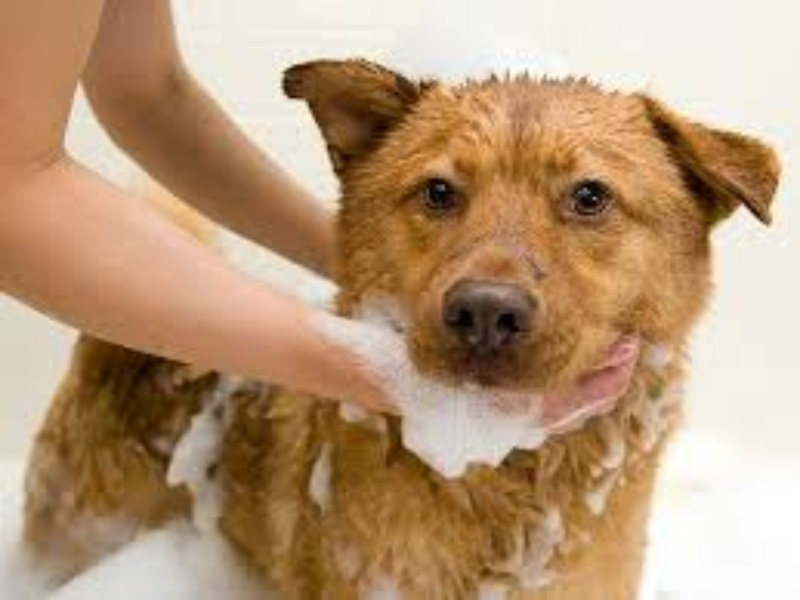dog: (270, 31, 778, 540)
